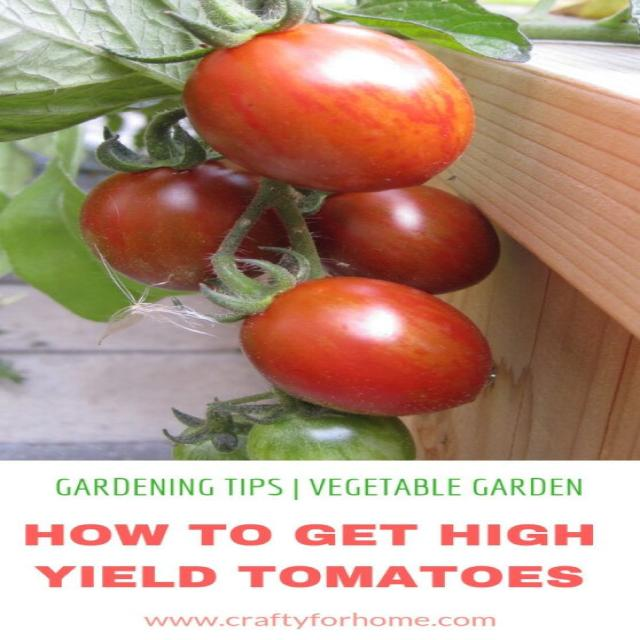level 1: (165, 394, 428, 459)
level 6: (188, 23, 474, 195), (244, 274, 493, 416), (76, 165, 286, 292), (312, 178, 508, 294)
